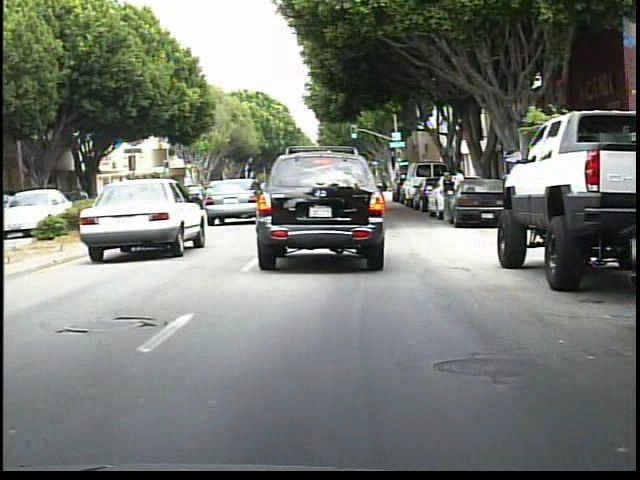person: (451, 166, 468, 220), (441, 173, 457, 228)
